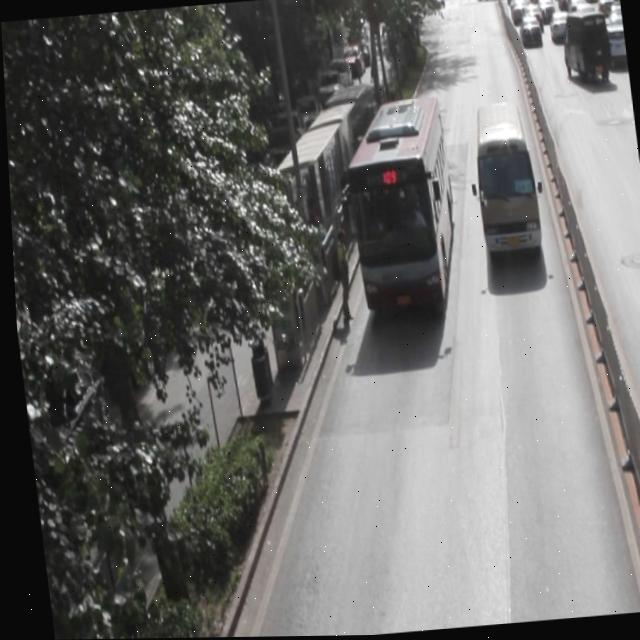truck: (464, 100, 539, 258)
van: (338, 94, 457, 313)
